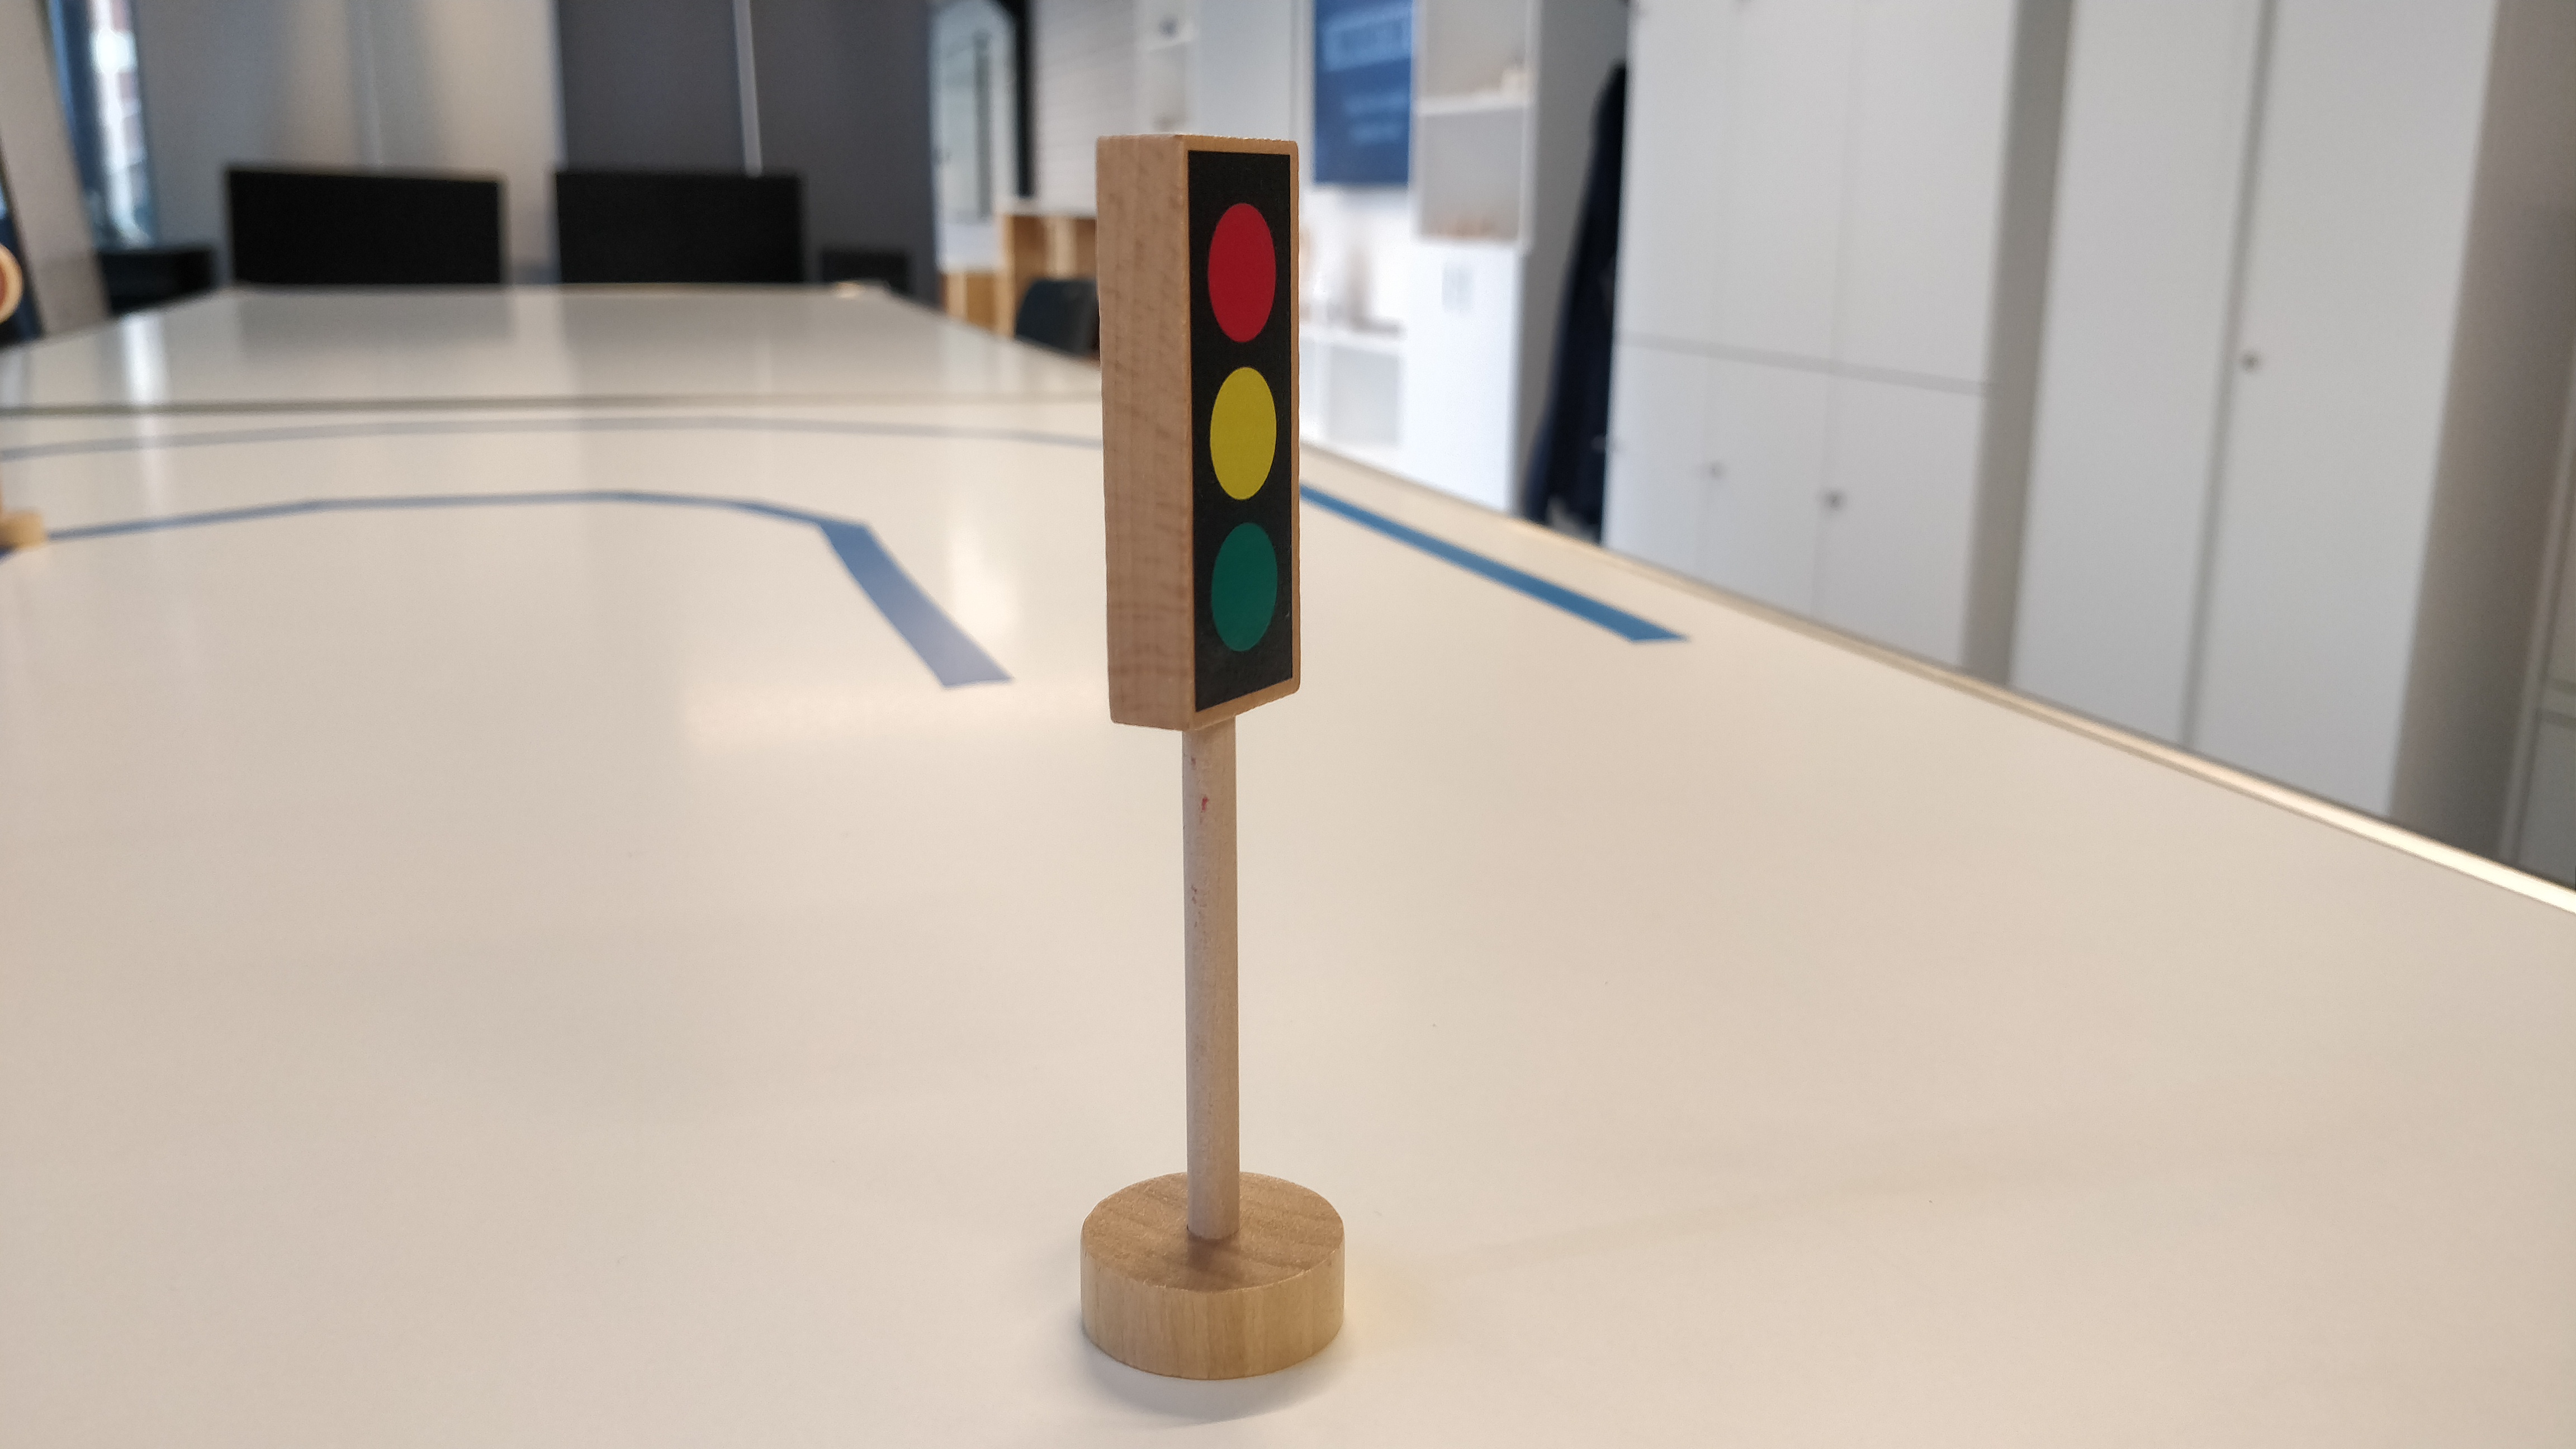Traffic Light: (1092, 134, 1308, 737)
